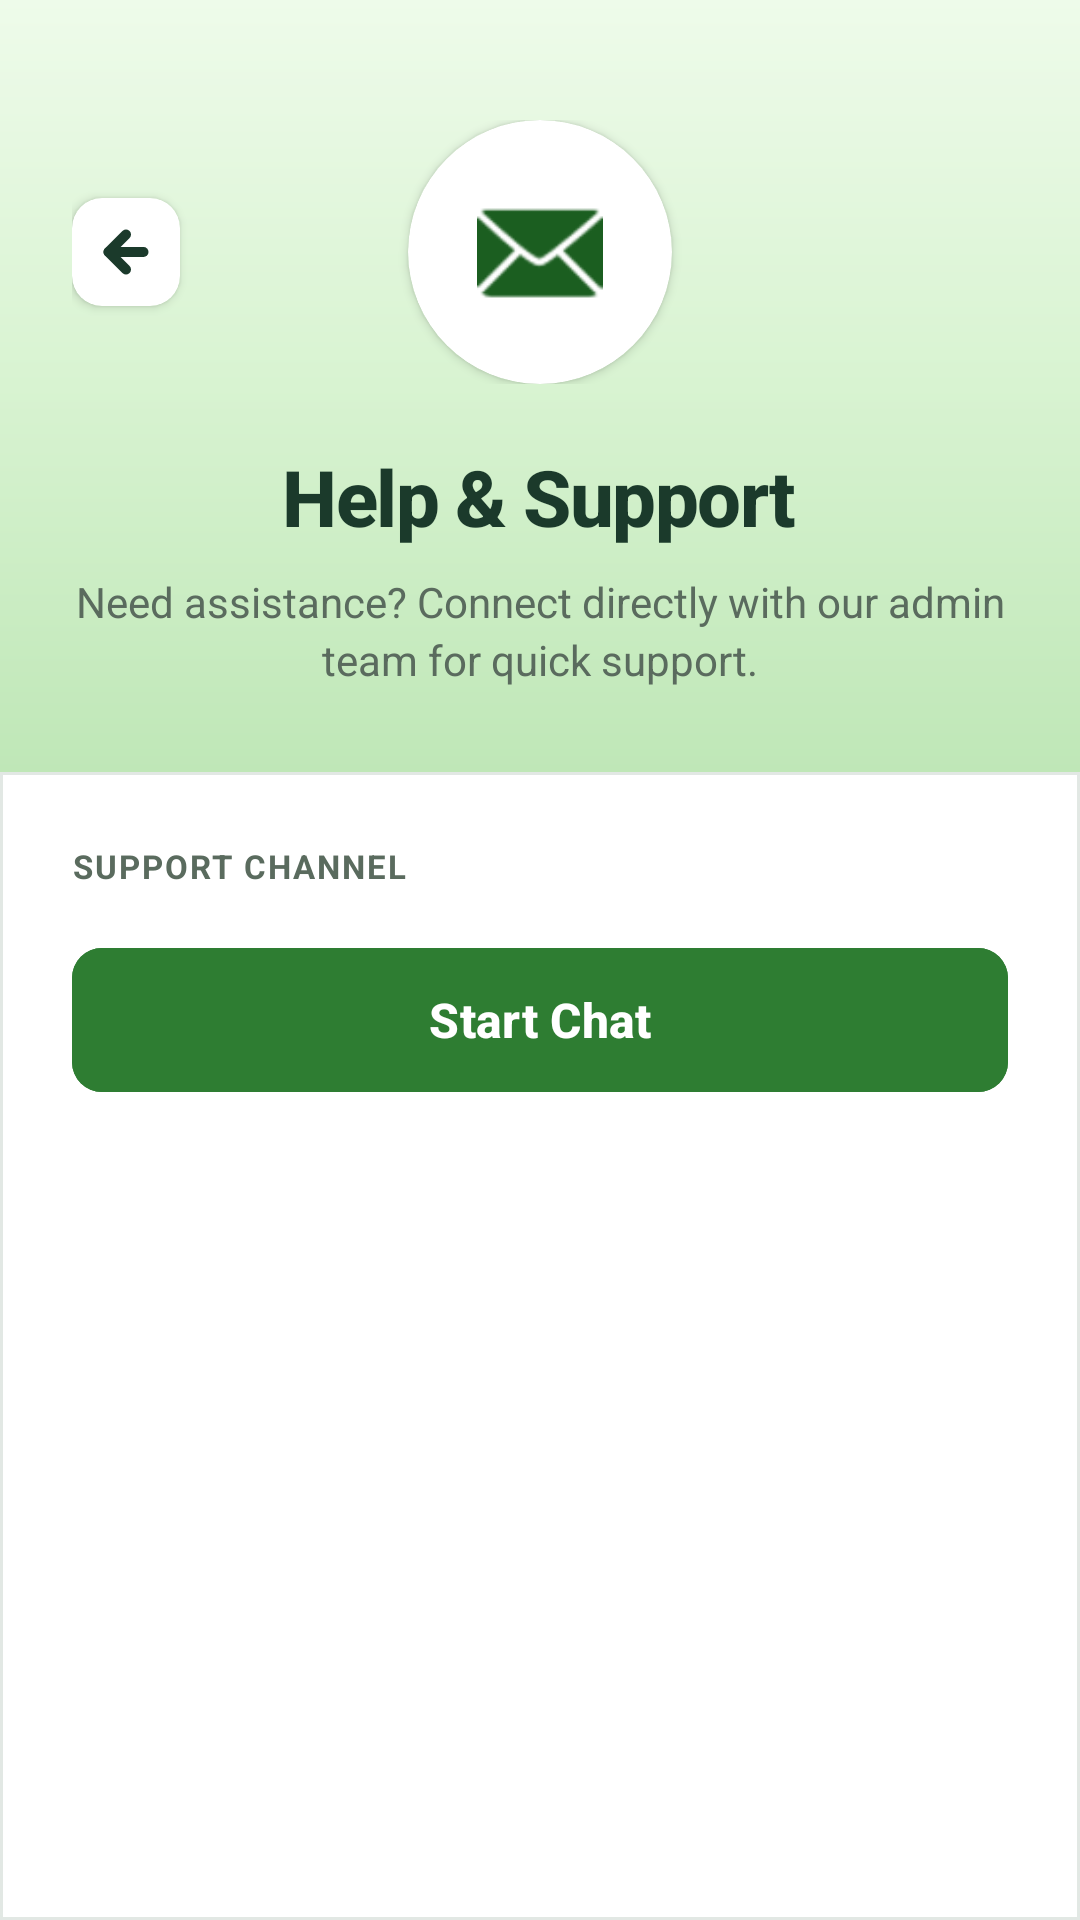

Icon bounding boxes for this 1080w x 1920h phone screenshot, format (x1, y1, x2, y2):
email: (477, 208, 603, 298)
Go Back: (103, 229, 149, 275)
